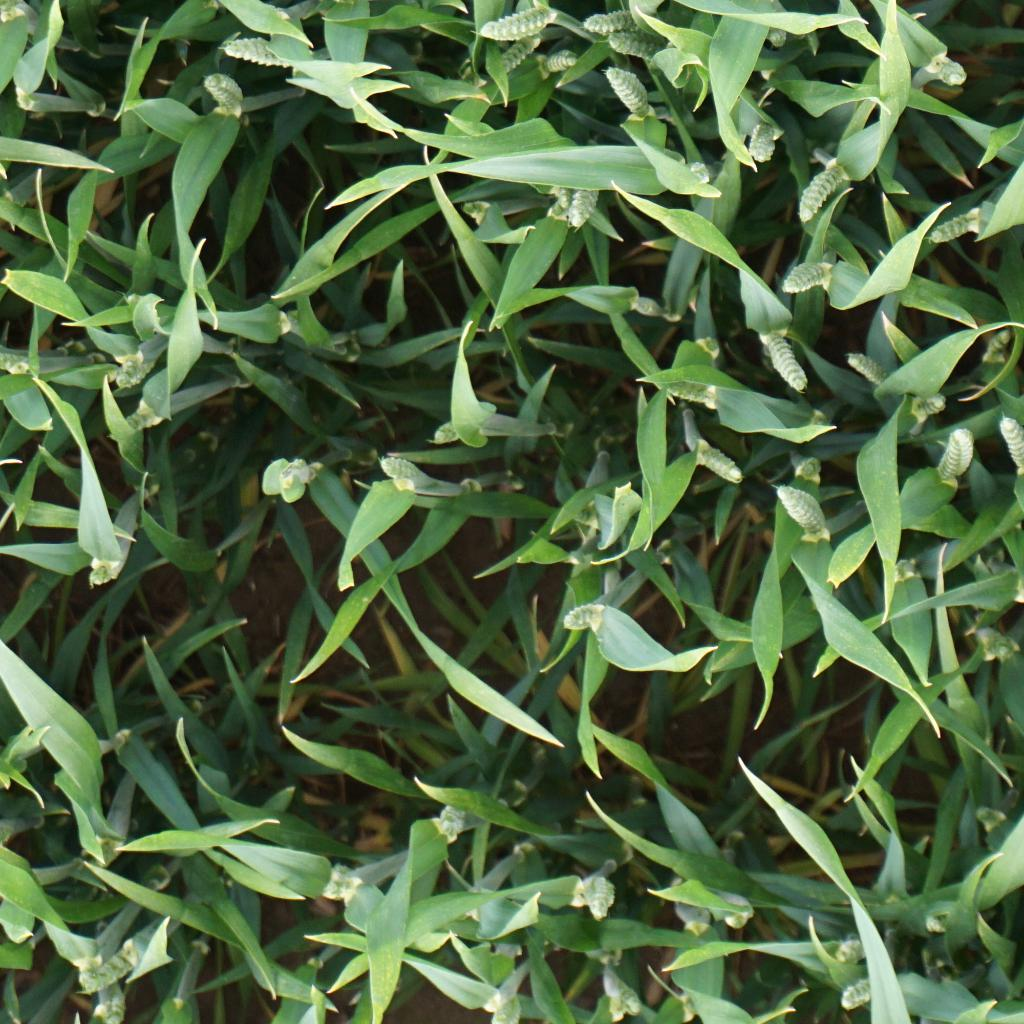0-0: (585, 54, 666, 131), (798, 136, 865, 226), (765, 478, 842, 545), (821, 337, 902, 399), (68, 935, 154, 991), (598, 17, 689, 67), (648, 359, 733, 412), (675, 434, 755, 489), (474, 0, 563, 49), (571, 0, 671, 42), (757, 324, 811, 398), (926, 194, 997, 250), (214, 29, 315, 68), (733, 110, 802, 167), (770, 252, 843, 302), (480, 23, 536, 87), (928, 424, 983, 483), (529, 35, 587, 89), (906, 379, 964, 431), (105, 343, 159, 396), (989, 396, 1024, 476), (557, 175, 606, 230), (91, 973, 141, 1024), (596, 974, 653, 1018), (313, 859, 363, 907), (375, 453, 433, 491), (980, 320, 1019, 372), (201, 73, 244, 120), (560, 601, 615, 637), (272, 459, 324, 496), (583, 867, 616, 923), (824, 936, 877, 970), (835, 976, 880, 1012), (930, 52, 971, 89), (0, 338, 29, 389), (434, 802, 472, 839), (86, 551, 121, 590), (487, 988, 524, 1024), (422, 422, 464, 451), (721, 894, 753, 928), (0, 815, 30, 849)
